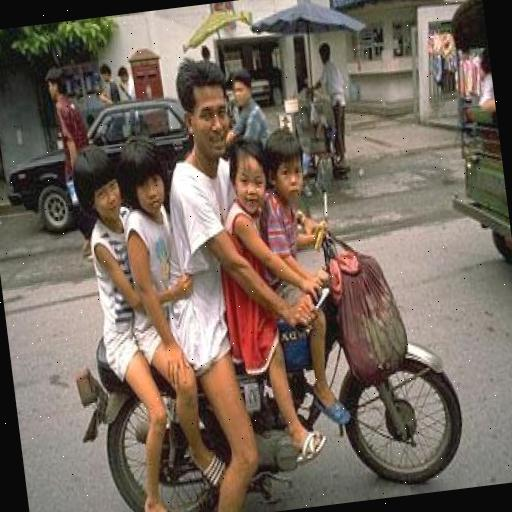no helmet: (175, 48, 275, 206)
triple riding: (45, 26, 483, 512)
